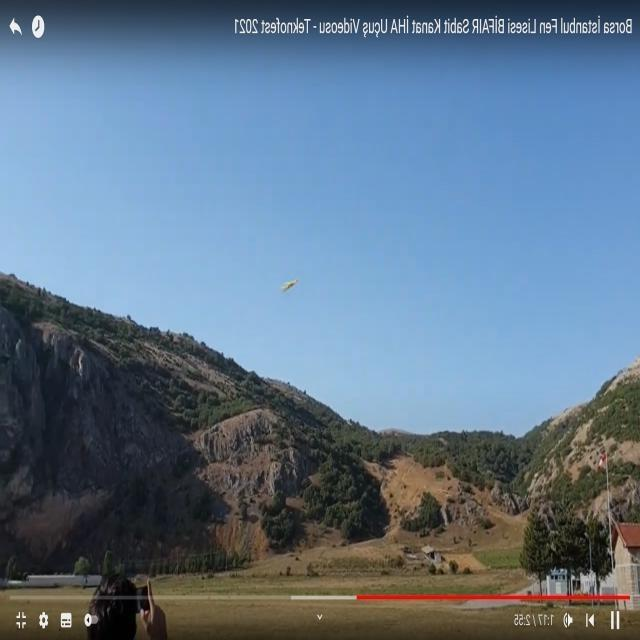Airplane: (280, 274, 300, 294)
